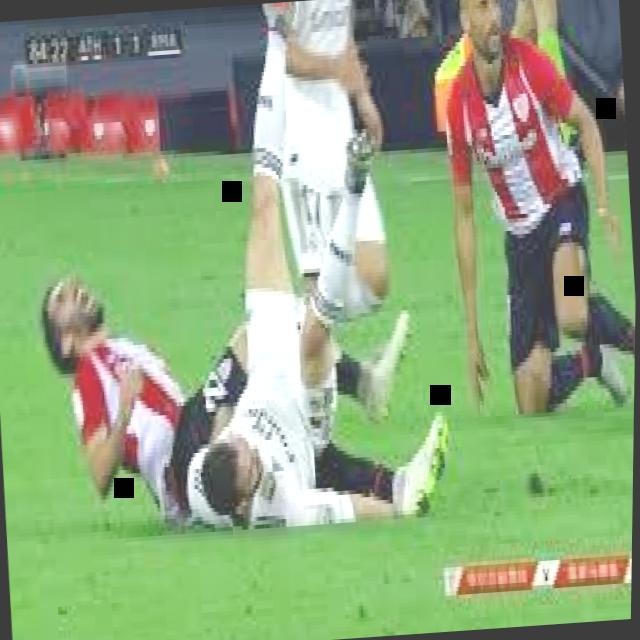Fall-Detected: (30, 219, 459, 543)
